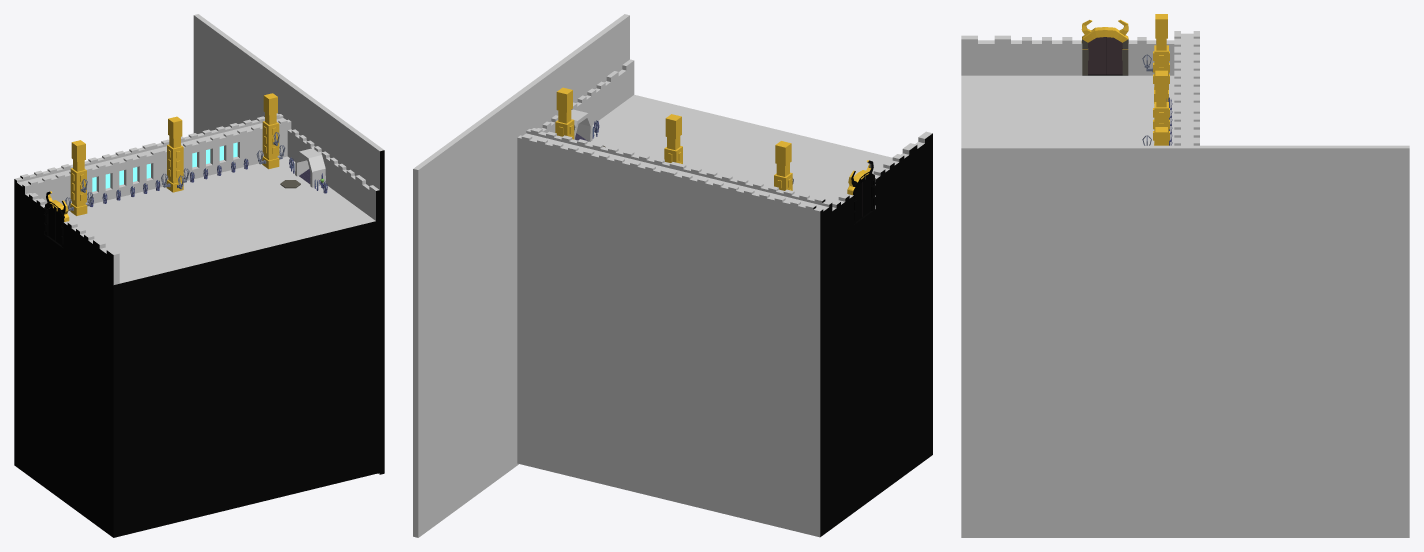
The model's file is Nivel 3 .fbx.
The picture shows the model from 3 angles, left to right: view 1: azimuth 30°, elevation 25°; view 2: azimuth 150°, elevation 25°; view 3: azimuth 270°, elevation 25°; orthographic projection. The views are drawn at different scales.
Parts seen in each view (by area): view 1: castillo, columna.004, columna.009, columna.006, marco de puerta; view 2: castillo, columna.004, columna.009, columna.006, marco de puerta; view 3: castillo, puerta, marco de puerta, columna.009, columna.006.
Boxes of the visible parts, box(x1,y1,x2,y2) form: castillo: box(14, 14, 384, 537); columna.004: box(262, 93, 279, 169); columna.009: box(70, 140, 87, 215); columna.006: box(166, 116, 183, 192); marco de puerta: box(43, 191, 69, 247); castillo: box(413, 14, 932, 537); columna.004: box(555, 87, 574, 139); columna.009: box(774, 141, 792, 190); columna.006: box(664, 114, 682, 163); marco de puerta: box(847, 160, 876, 224); castillo: box(961, 31, 1409, 537); puerta: box(1088, 37, 1122, 74); marco de puerta: box(1081, 19, 1128, 75); columna.009: box(1153, 14, 1169, 103); columna.006: box(1153, 70, 1169, 145).
Bounding box in the file's own units: 11558 × 13174 × 13709.
Materials: 15 (9 with a texture image).
